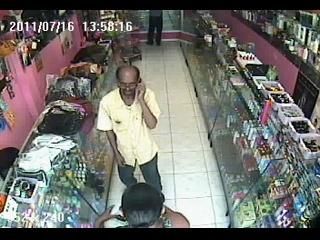Normal: (95, 64, 164, 195), (93, 183, 190, 228), (146, 10, 163, 46)
